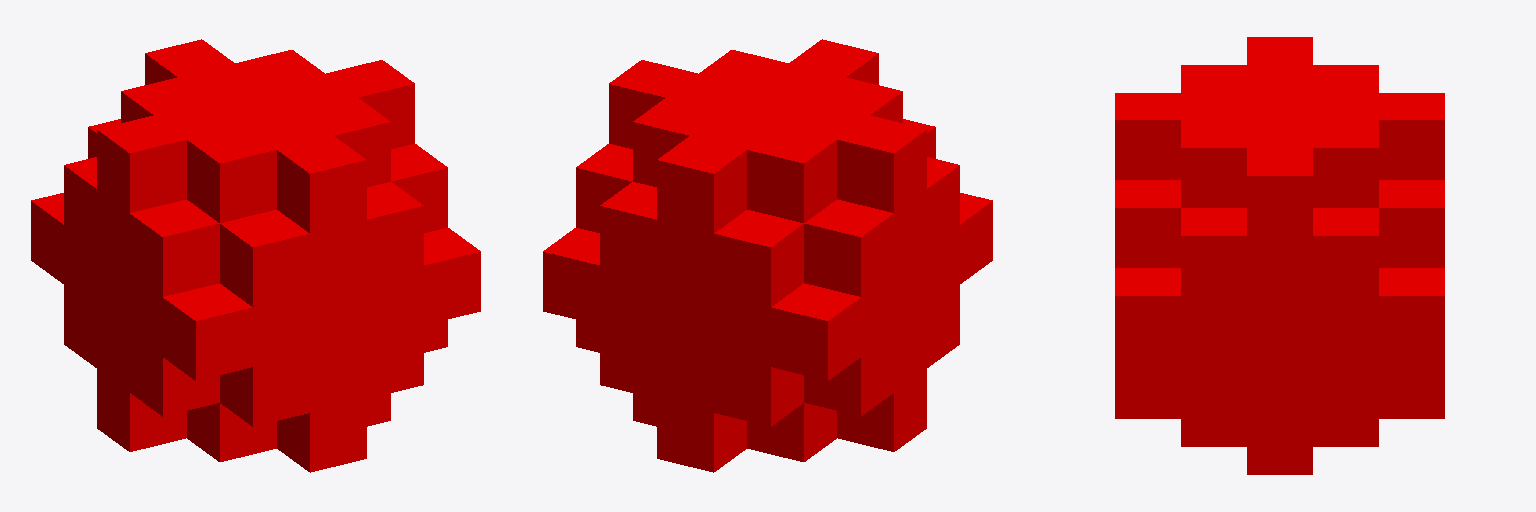
The picture shows the model from 3 angles: view 1: azimuth 30°, elevation 25°; view 2: azimuth 150°, elevation 25°; view 3: azimuth 270°, elevation 25°; orthographic projection.
Visible parts, largest first — view 1: object 1; view 2: object 1; view 3: object 1.
Part boxes in pixels (bbox=[...]): object 1: bbox=[31, 39, 480, 472]; object 1: bbox=[543, 39, 992, 472]; object 1: bbox=[1115, 37, 1444, 474].
Size of the model in its own units: 0.5 by 0.5 by 0.5.
1 materials, 1 textured.